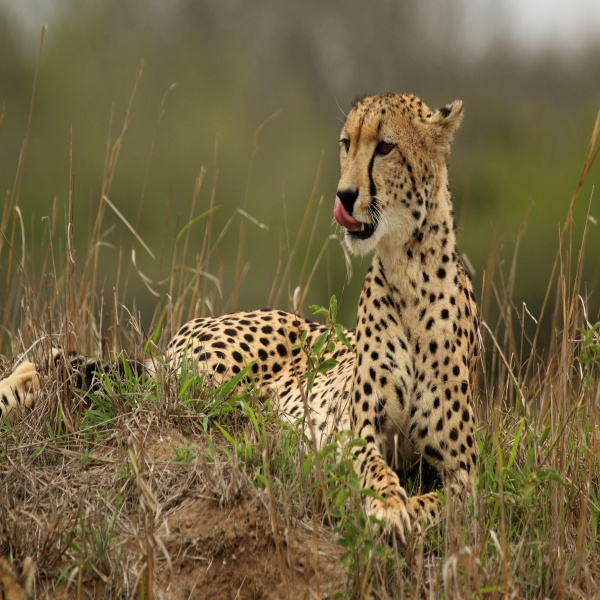Cheetah: (1, 87, 494, 540)
